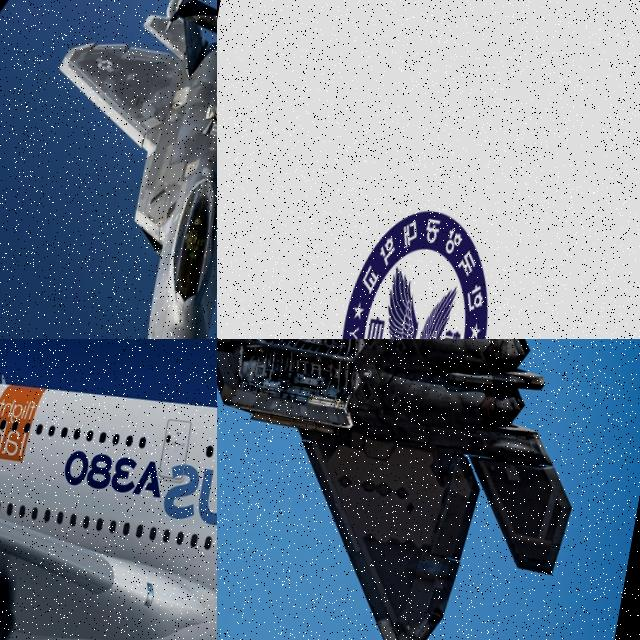A380: (0, 339, 217, 640)
F22: (217, 339, 633, 640), (0, 0, 217, 339)
KAU_Marker: (322, 196, 510, 339)
